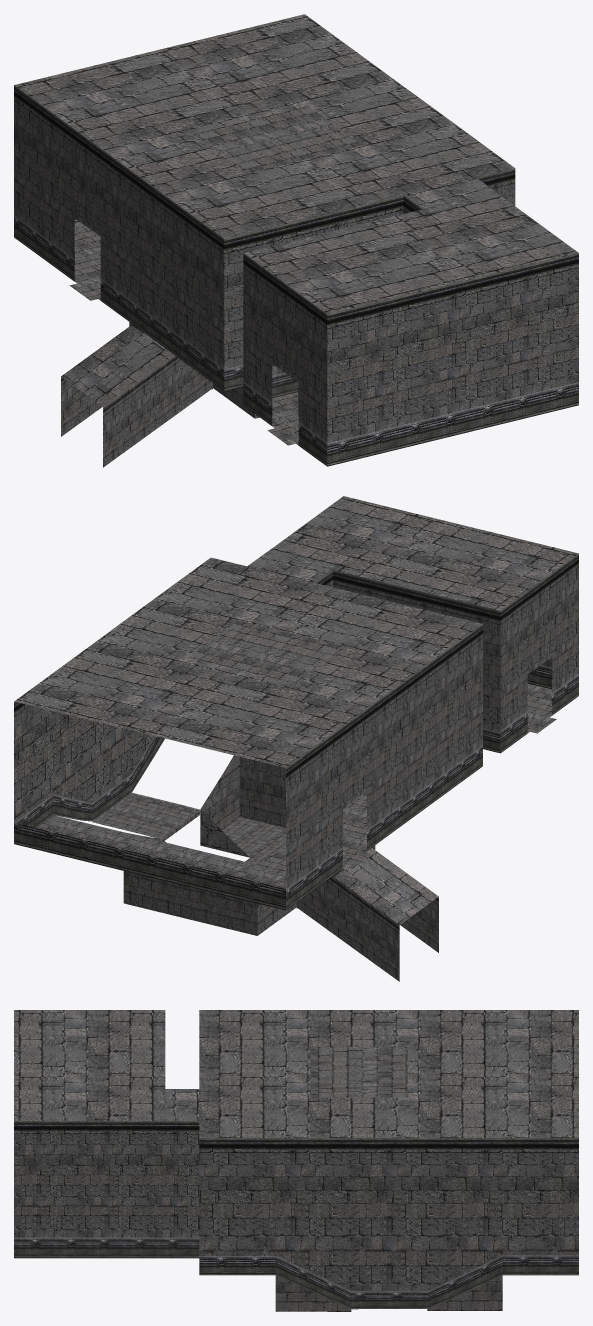
3 views of the same model, one above another, from view 1: azimuth 30°, elevation 25°; view 2: azimuth 150°, elevation 25°; view 3: azimuth 270°, elevation 25° (orthographic). The views are drawn at different scales.
Parts seen in each view (by area): view 1: Box15; view 2: Box15; view 3: Box15.
Part boxes in pixels (x1,y1,x2,y2): Box15: (14,14,578,467); Box15: (14,496,578,981); Box15: (14,1010,578,1311).
Bounding box in the file's own units: 451 × 369 × 745.
